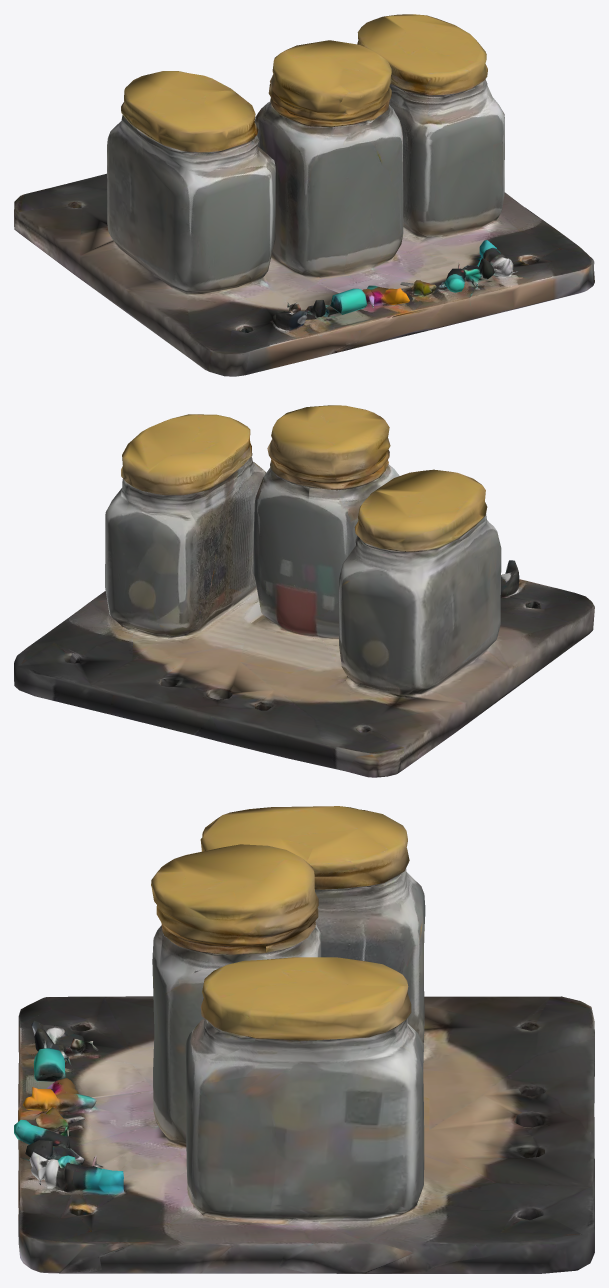
3 views of the same model, one above another, from view 1: azimuth 30°, elevation 25°; view 2: azimuth 150°, elevation 25°; view 3: azimuth 270°, elevation 25° (orthographic). The views are drawn at different scales.
Bounding box in the file's own units: 2 × 1.05 × 1.98.
1 material, 1 textured.
